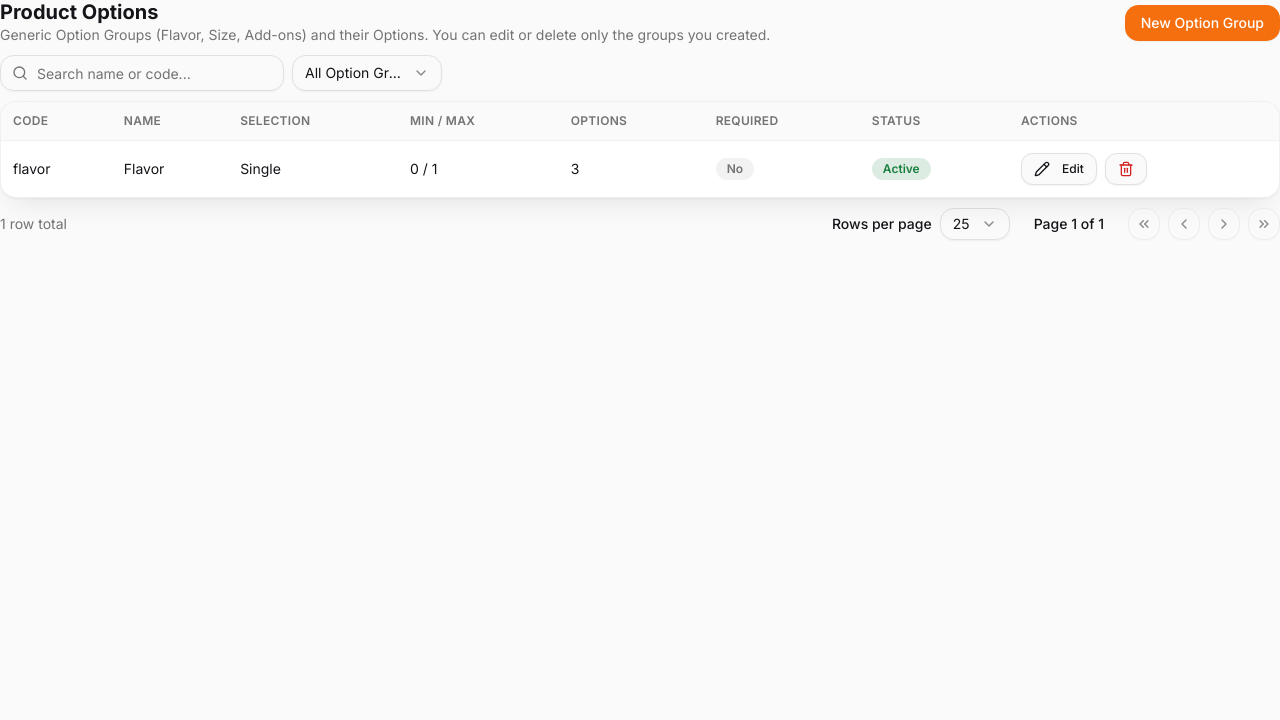
it: SupervisorProductOptionsPage — Delete action › closes the dialog after a successful delete
Click the button named "Delete Flavor" at (1126, 168), box left=1105, top=152, right=1147, bottom=184
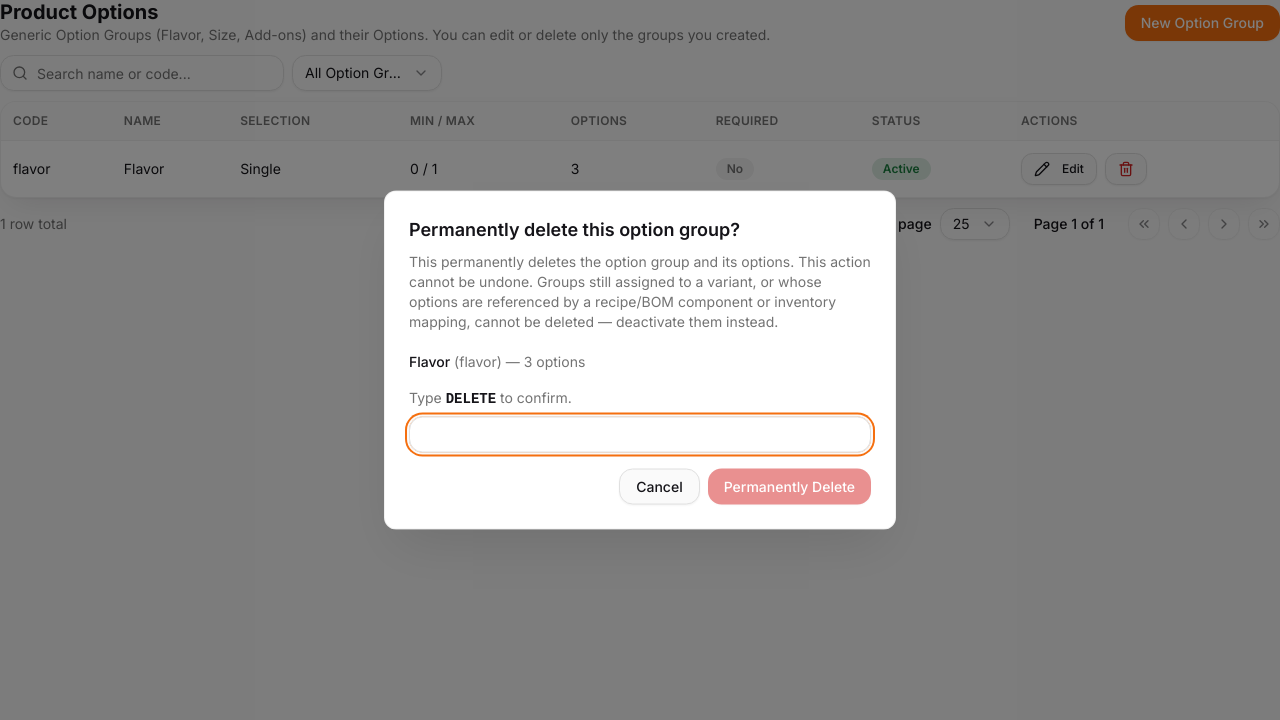
Type "DELETE" into the field named "Type DELETE to confirm" at (640, 434), box left=409, top=416, right=871, bottom=452
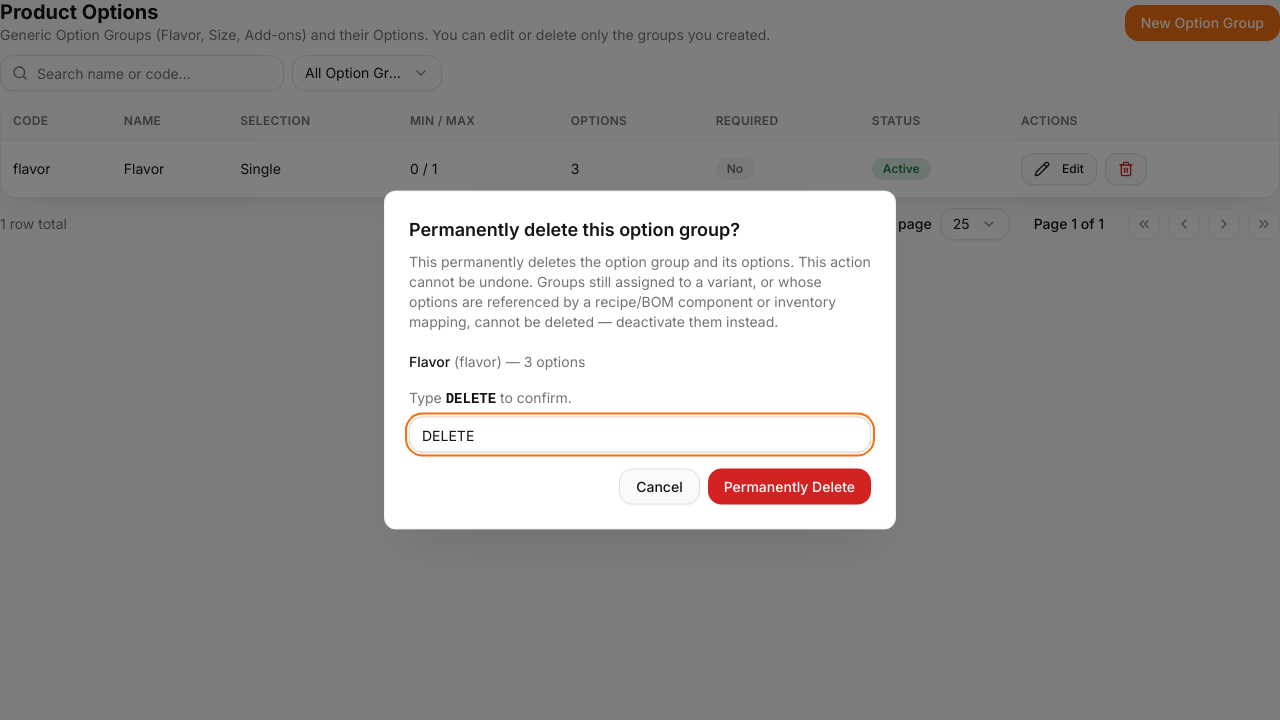
Click the button "Permanently Delete" at (789, 486), box left=708, top=468, right=871, bottom=504
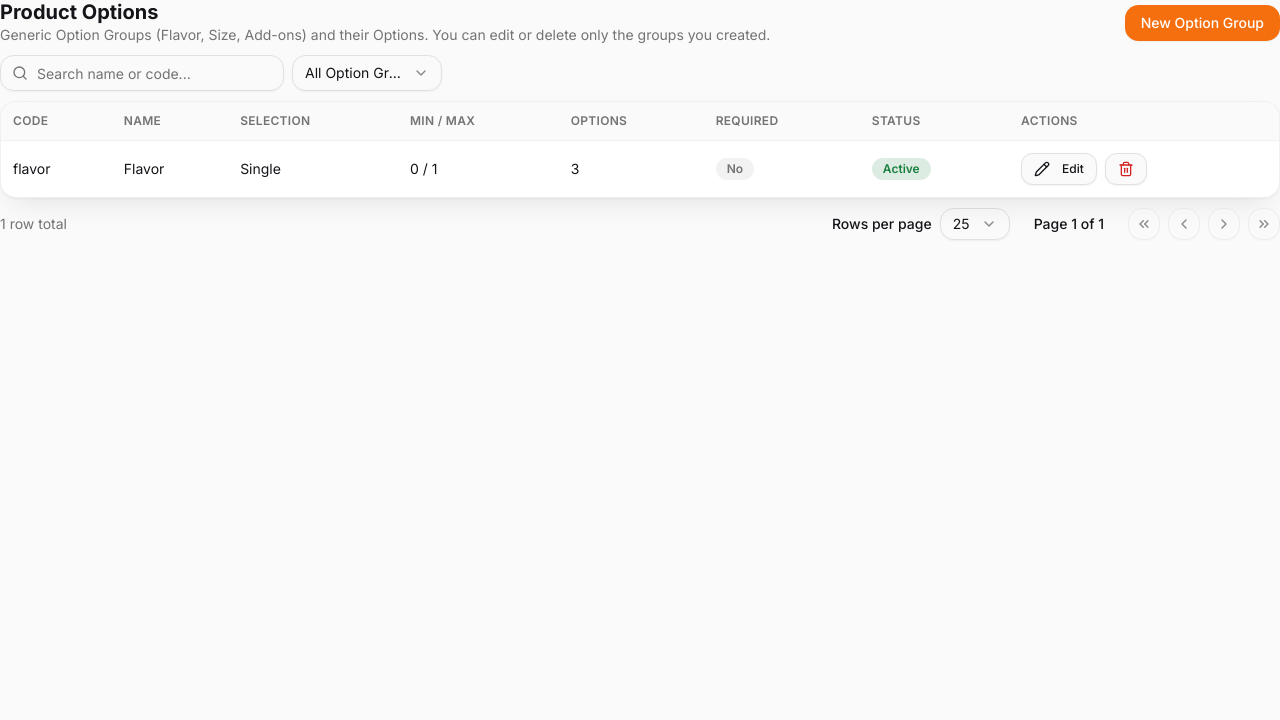
Expected: the heading "Permanently delete this option group?" is gone
